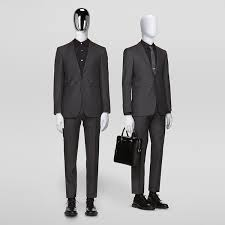person-like: (49, 4, 114, 219), (113, 13, 177, 213)
